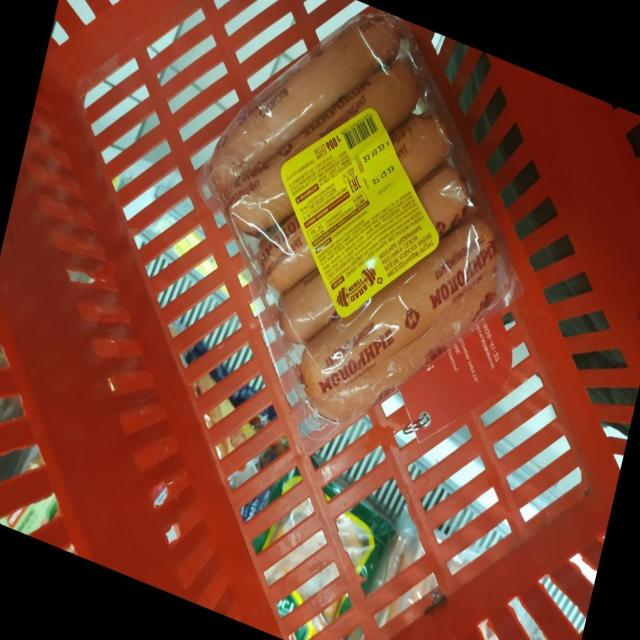Sausages: (201, 12, 519, 450)
